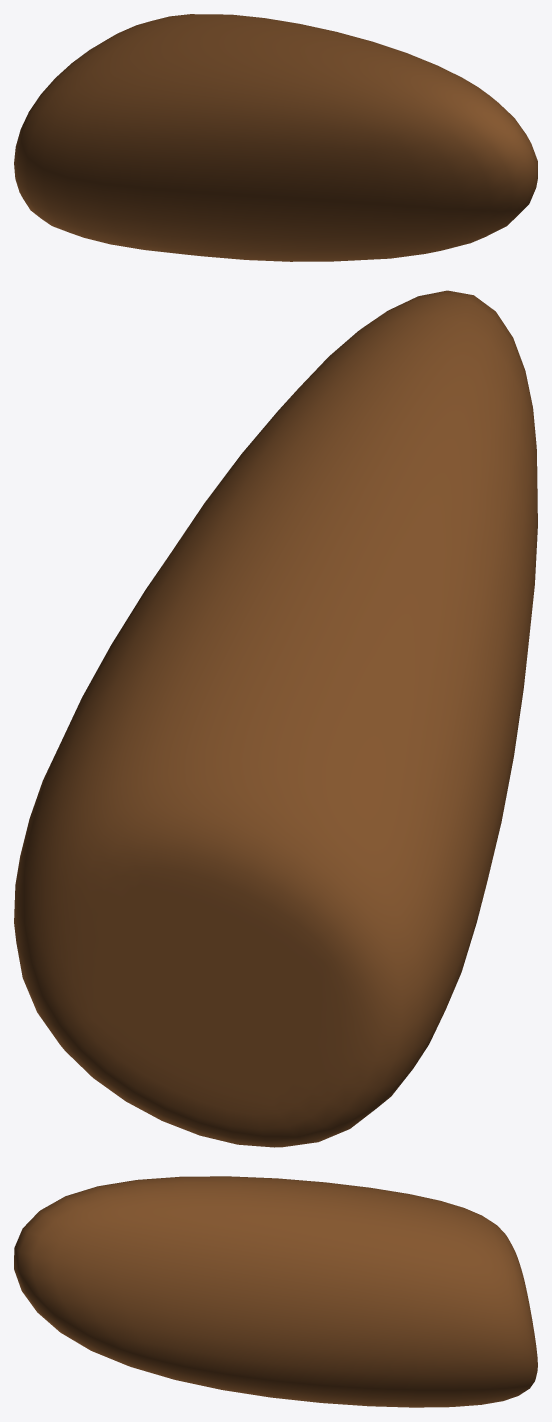
File: LeftLegBear.fbx
3 views of the same model, one above another, from view 1: azimuth 30°, elevation 25°; view 2: azimuth 150°, elevation 25°; view 3: azimuth 270°, elevation 25° (orthographic). The views are drawn at different scales.
Parts seen in each view (by area): view 1: LeftLeg; view 2: LeftLeg; view 3: LeftLeg.
Part boxes in pixels (x1,y1,x2,y2): LeftLeg: (14, 14, 537, 261); LeftLeg: (14, 290, 537, 1147); LeftLeg: (14, 1176, 537, 1407).
Bounding box in the file's own units: 63.07 × 58.75 × 113.
